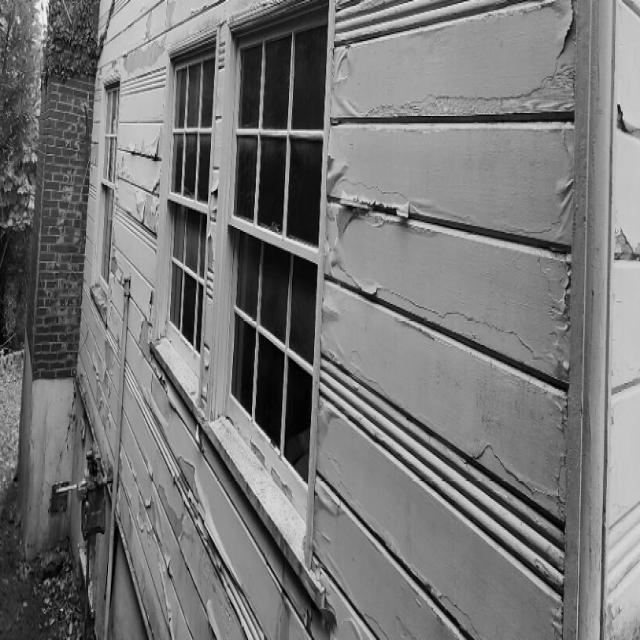peeling paint: (87, 0, 640, 640)
